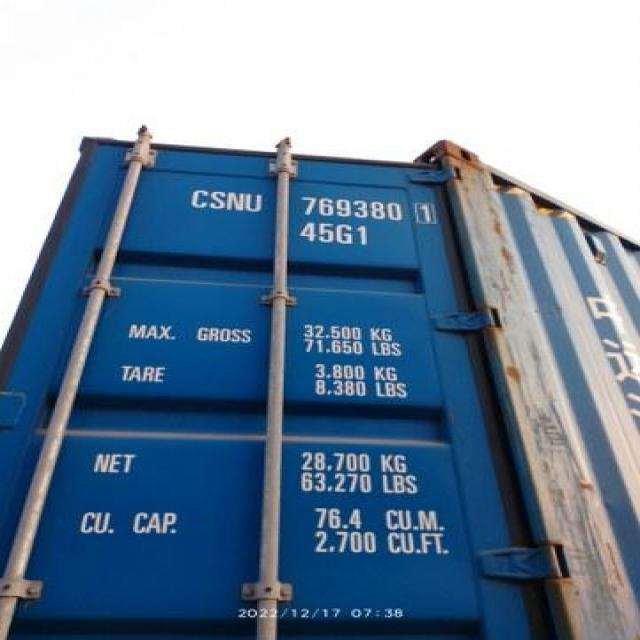container_number_h: (148, 167, 482, 277)
